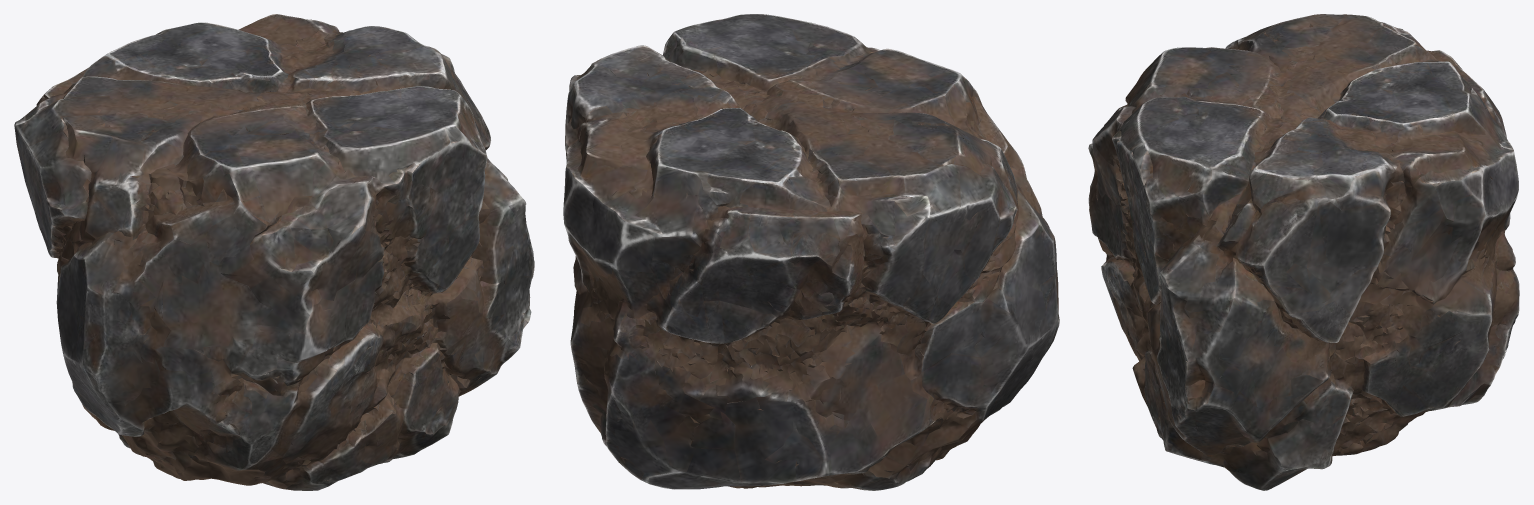
The model's file is et_rock1.glb.
3 views of the same model, side by side, from view 1: azimuth 30°, elevation 25°; view 2: azimuth 150°, elevation 25°; view 3: azimuth 270°, elevation 25° (orthographic). The views are drawn at different scales.
Bounding box in the file's own units: 1.9 × 1.54 × 1.72.
1 material, 1 textured.
